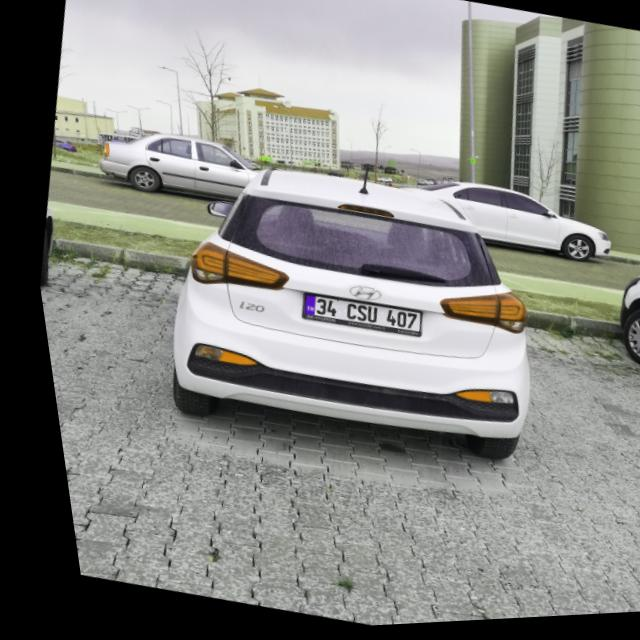license_plate: (291, 291, 414, 342)
